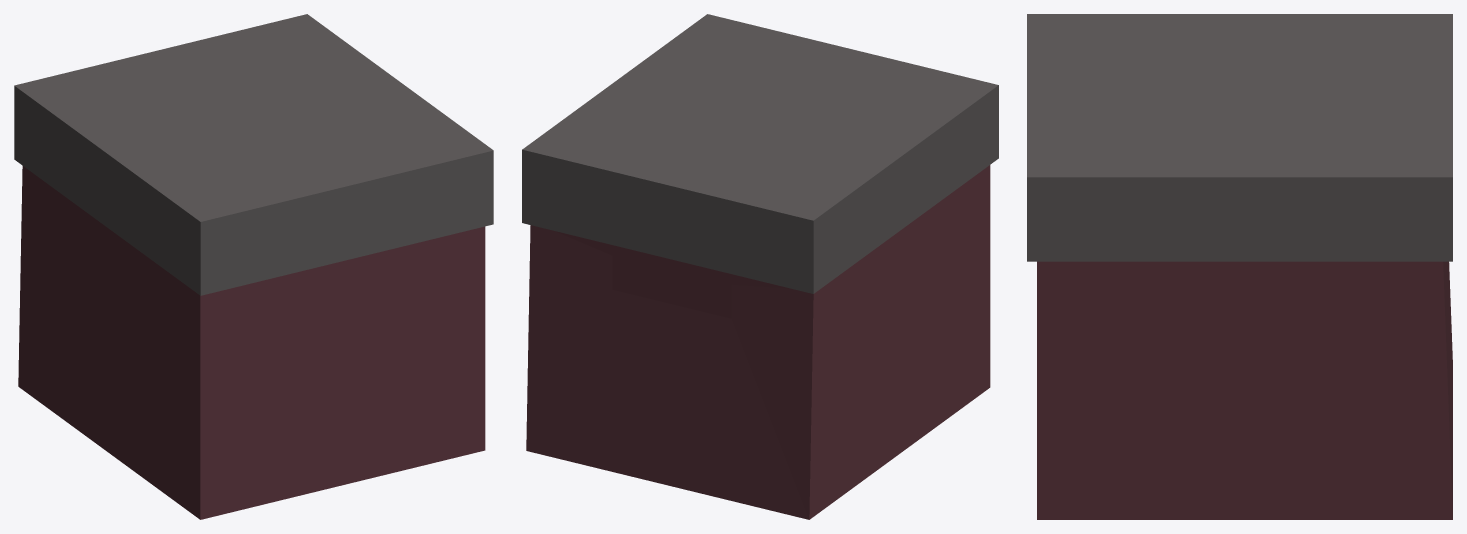
Rendered from furniture-box-cabinet-closed.glb.
3 views of the same model, side by side, from view 1: azimuth 30°, elevation 25°; view 2: azimuth 150°, elevation 25°; view 3: azimuth 270°, elevation 25° (orthographic). The views are drawn at different scales.
Parts seen in each view (by area): view 1: box-cabinet-closed; view 2: box-cabinet-closed; view 3: box-cabinet-closed.
Part boxes in pixels (x1,y1,x2,y2): box-cabinet-closed: (14,14,493,519); box-cabinet-closed: (522,14,998,519); box-cabinet-closed: (1027,14,1452,519).
Size of the model in its own units: 0.308 by 0.3033 by 0.3393.
